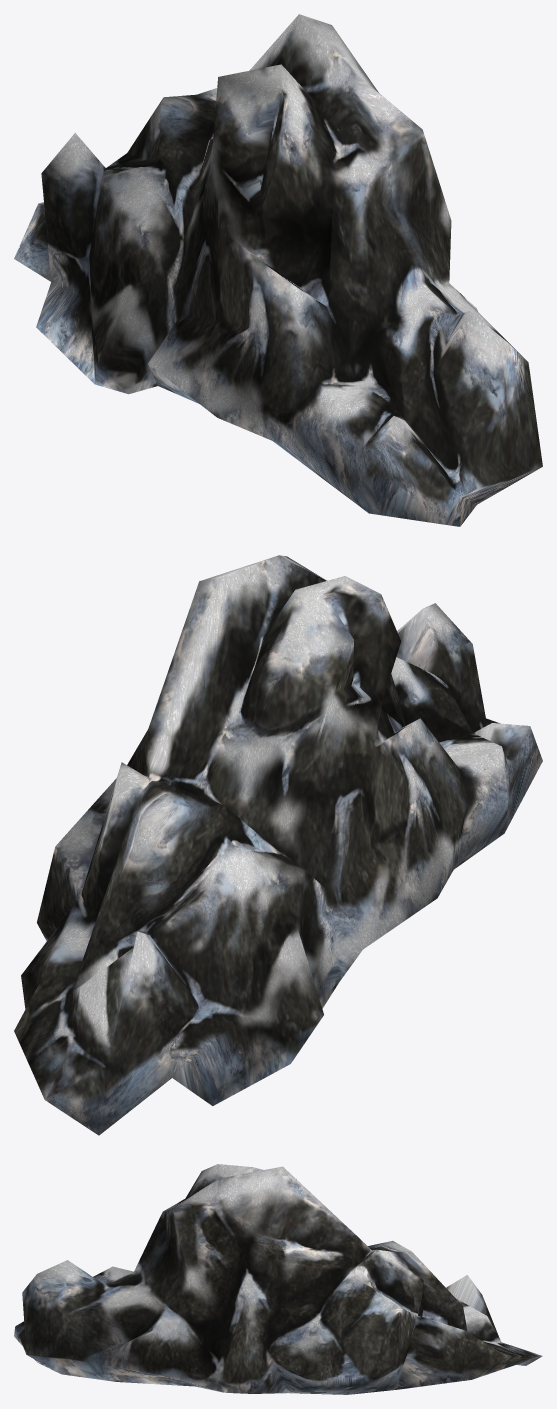
Rendered from Rock_small.FBX.
3 views of the same model, one above another, from view 1: azimuth 30°, elevation 25°; view 2: azimuth 150°, elevation 25°; view 3: azimuth 270°, elevation 25° (orthographic). The views are drawn at different scales.
Visible parts, largest first — view 1: Rock_02; view 2: Rock_02; view 3: Rock_02.
Boxes of the visible parts, x1,y1,x2,y2 form: Rock_02: (14,14,542,526); Rock_02: (14,555,542,1135); Rock_02: (14,1164,542,1394).
Size of the model in its own units: 3 by 4.32 by 8.92.
